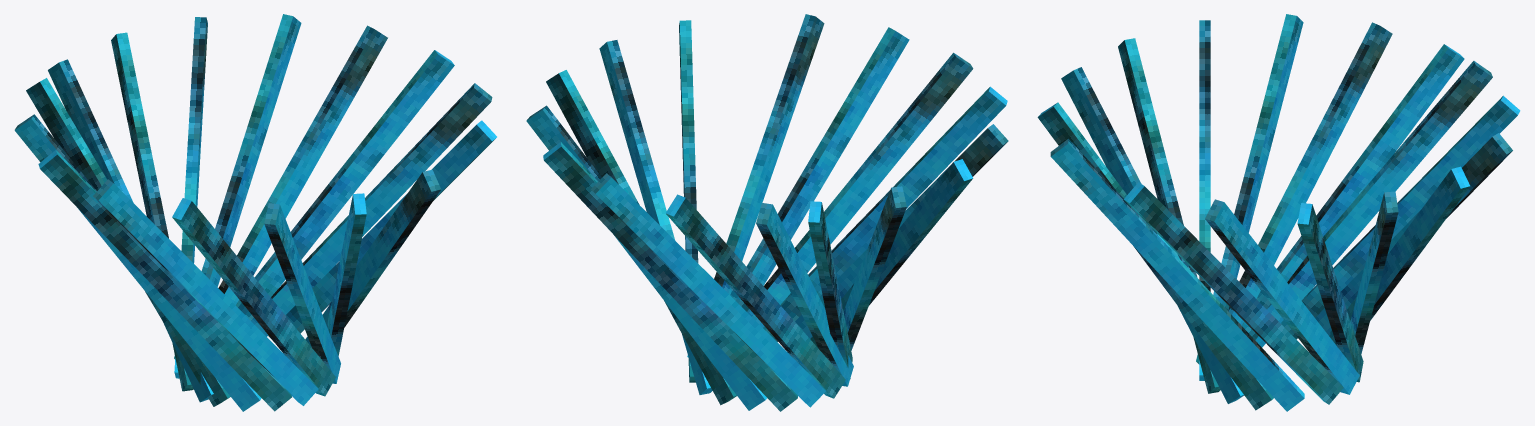
File: rueda1.gltf
3 renders of one model, left to right at view 1: azimuth 30°, elevation 25°; view 2: azimuth 150°, elevation 25°; view 3: azimuth 270°, elevation 25°, orthographic.
Parts seen in each view (by area): view 1: cube (×16); view 2: cube (×16); view 3: cube (×16).
Part boxes in pixels (x1=…): cube (×16): x1=14, y1=14, x2=496, y2=411; cube (×16): x1=526, y1=14, x2=1008, y2=411; cube (×16): x1=1037, y1=14, x2=1520, y2=411.
Bounding box in the file's own units: 2.63 × 1.61 × 2.63.
Materials: 1 (1 with a texture image).
